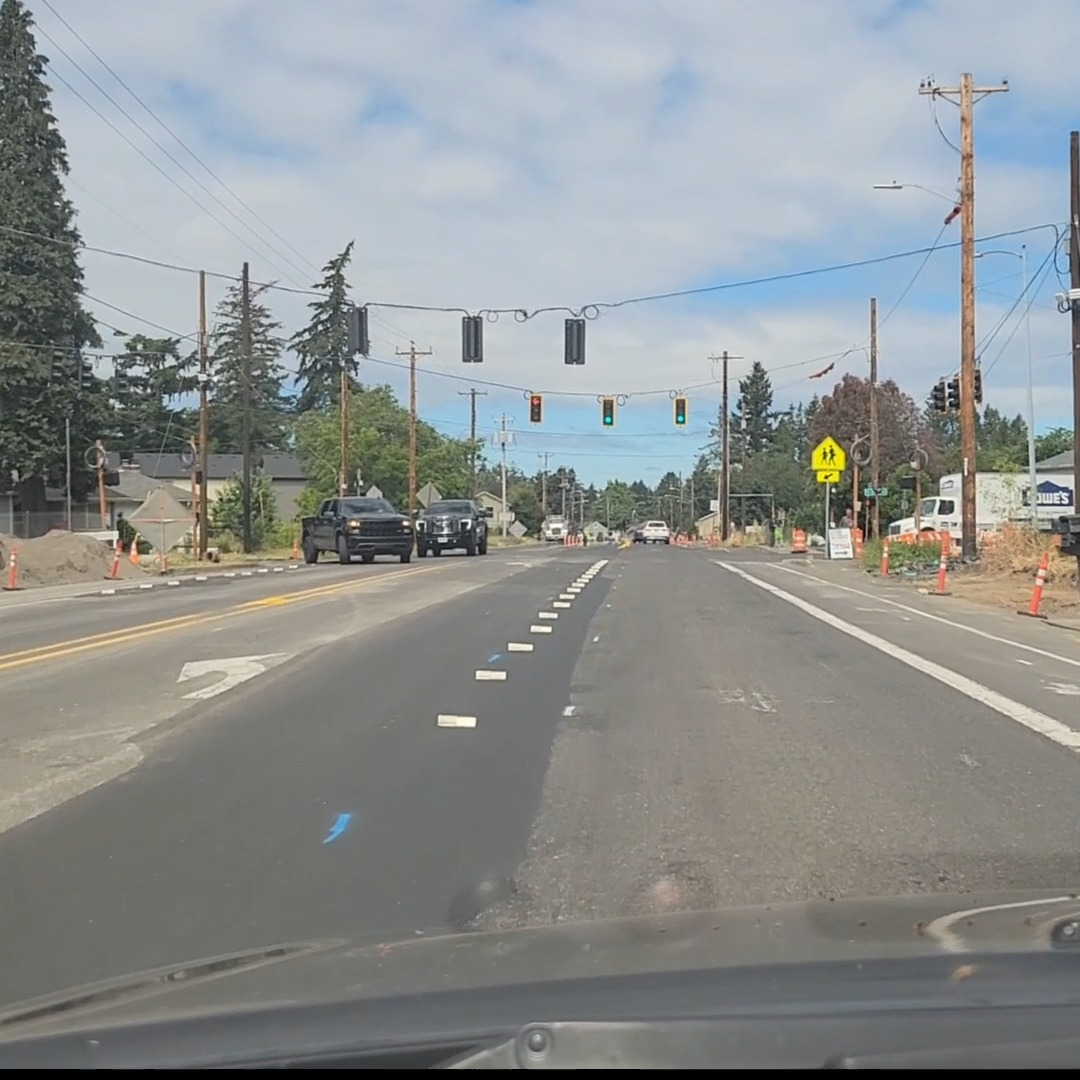car: (296, 496, 416, 564), (412, 499, 492, 557), (633, 520, 671, 544), (541, 514, 569, 542)
crosswalk-sign: (810, 435, 845, 478)
delineator: (1014, 555, 1050, 619), (926, 535, 953, 596), (1, 546, 25, 590), (107, 535, 124, 578), (879, 537, 889, 576), (128, 538, 141, 565), (853, 528, 863, 558), (290, 534, 300, 559), (710, 533, 719, 546)
